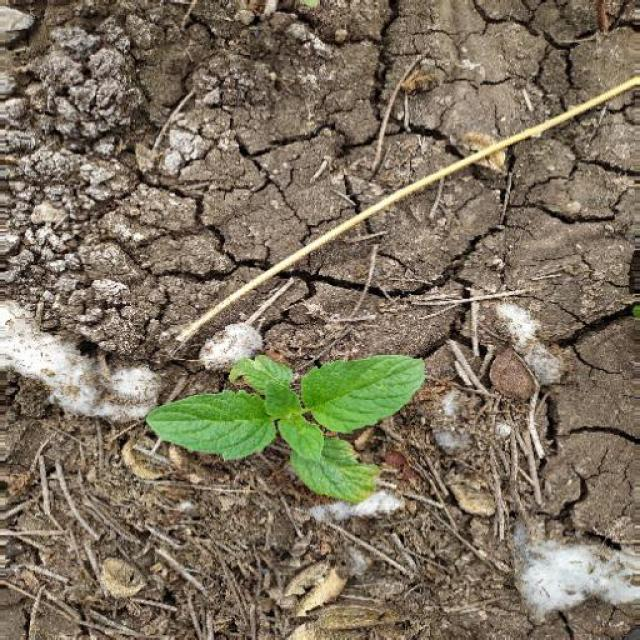crop: (142, 346, 446, 512)
